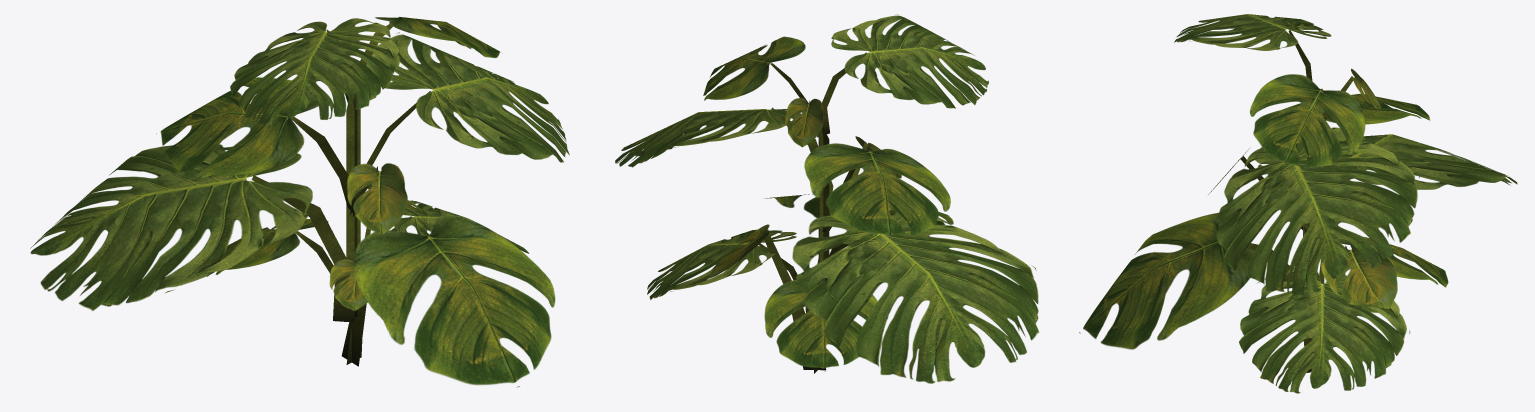
Rendered from stklib_tropicalPlant_a_main_a.glb.
3 renders of one model, left to right at view 1: azimuth 30°, elevation 25°; view 2: azimuth 150°, elevation 25°; view 3: azimuth 270°, elevation 25°, orthographic. The views are drawn at different scales.
Visible parts, largest first — view 1: stktex_tropicalPlant_a.png__; view 2: stktex_tropicalPlant_a.png__; view 3: stktex_tropicalPlant_a.png__.
Boxes of the visible parts, x1=… form: stktex_tropicalPlant_a.png__: x1=30, y1=17, x2=569, y2=387; stktex_tropicalPlant_a.png__: x1=615, y1=14, x2=1039, y2=383; stktex_tropicalPlant_a.png__: x1=1079, y1=14, x2=1517, y2=393.
Bounding box in the file's own units: 6.09 × 4.21 × 5.18.
1 material, 1 textured.
